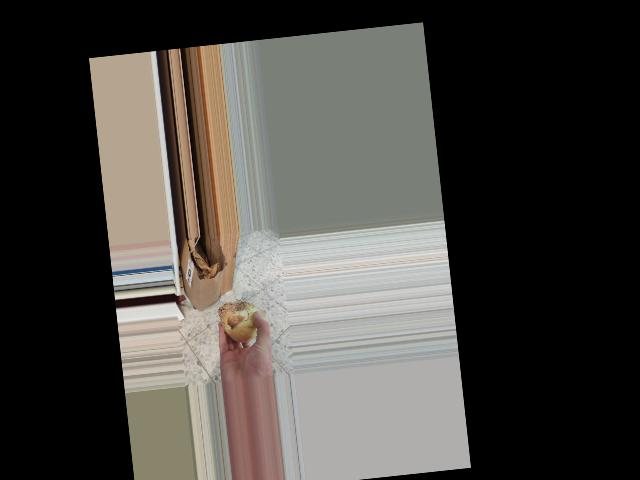onion: (216, 297, 266, 346)
